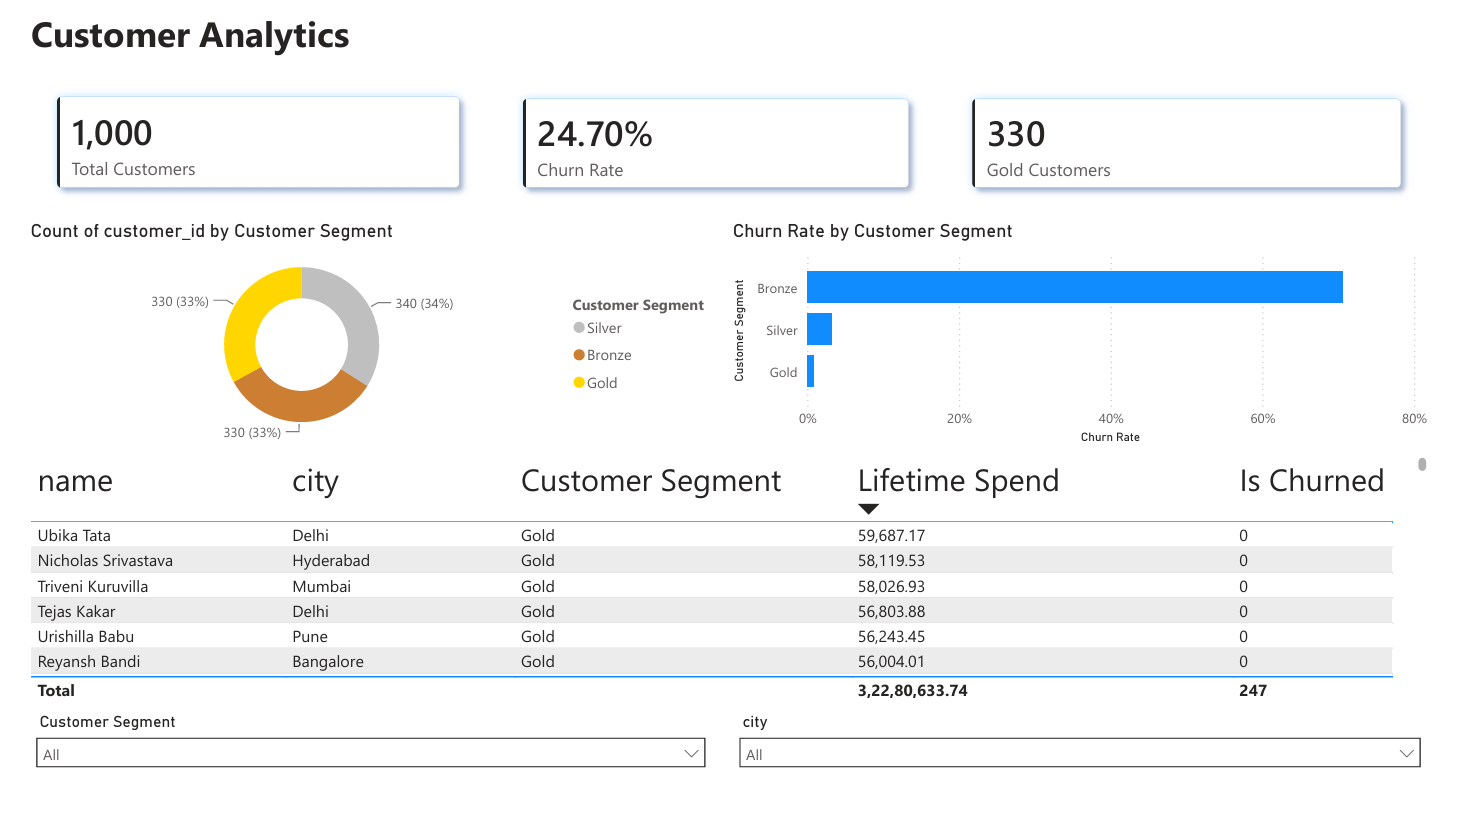

Layout of this report page (visuals, bound fields, positions):
{"tool":"powerbi","page":{"name":"Customer Analytics","canvas":[1280,720],"ordinal":2},"visuals":[{"type":"textbox","box":[0,0,1280,57],"z":0},{"type":"cardVisual","fields":{"Data":["_Measures.Total Customers Display"]},"box":[0,56.2,423.8,141.3],"z":1000},{"type":"cardVisual","fields":{"Data":["_Measures.Churn Rate"]},"box":[423.8,58,409.4,139.5],"z":2000},{"type":"cardVisual","fields":{"Data":["_Measures.Gold Customers"]},"box":[833.2,58,447.4,139.5],"z":3000},{"type":"donutChart","fields":{"Category":["customers.Customer Segment"],"Y":["CountNonNull(customers.customer_id)"]},"box":[0,197.4,639.4,208.3],"z":4000},{"type":"clusteredBarChart","fields":{"Category":["customers.Customer Segment"],"Y":["_Measures.Churn Rate"]},"box":[639.4,197.4,641.2,208.3],"z":5000},{"type":"tableEx","fields":{"Values":["customers.name","customers.city","customers.Customer Segment","Sum(customers.Lifetime Spend)","Sum(customers.Is Churned)"]},"box":[0,407.5,1280.6,233.7],"z":6000},{"type":"slicer","fields":{"Values":["customers.Customer Segment"]},"box":[0,641.2,628.5,79.7],"z":7000},{"type":"slicer","fields":{"Values":["customers.city"]},"box":[640,641.4,640,79.3],"z":8000}]}

Visuals, with their boxes in screenshot pixels (x1, y1, x2, y2), scaled from the page's 1280x720 canvas onto the 1457x817 screenshot:
textbox: {"x1": 0, "y1": 0, "x2": 1456, "y2": 65}
cardVisual - _Measures.Total Customers Display: {"x1": 0, "y1": 64, "x2": 482, "y2": 224}
cardVisual - _Measures.Churn Rate: {"x1": 482, "y1": 66, "x2": 948, "y2": 224}
cardVisual - _Measures.Gold Customers: {"x1": 948, "y1": 66, "x2": 1456, "y2": 224}
donutChart - customers.Customer Segment x CountNonNull(customers.customer_id): {"x1": 0, "y1": 224, "x2": 728, "y2": 460}
clusteredBarChart - customers.Customer Segment x _Measures.Churn Rate: {"x1": 728, "y1": 224, "x2": 1456, "y2": 460}
tableEx - customers.name x customers.city: {"x1": 0, "y1": 462, "x2": 1456, "y2": 728}
slicer - customers.Customer Segment: {"x1": 0, "y1": 728, "x2": 715, "y2": 816}
slicer - customers.city: {"x1": 728, "y1": 728, "x2": 1456, "y2": 816}
